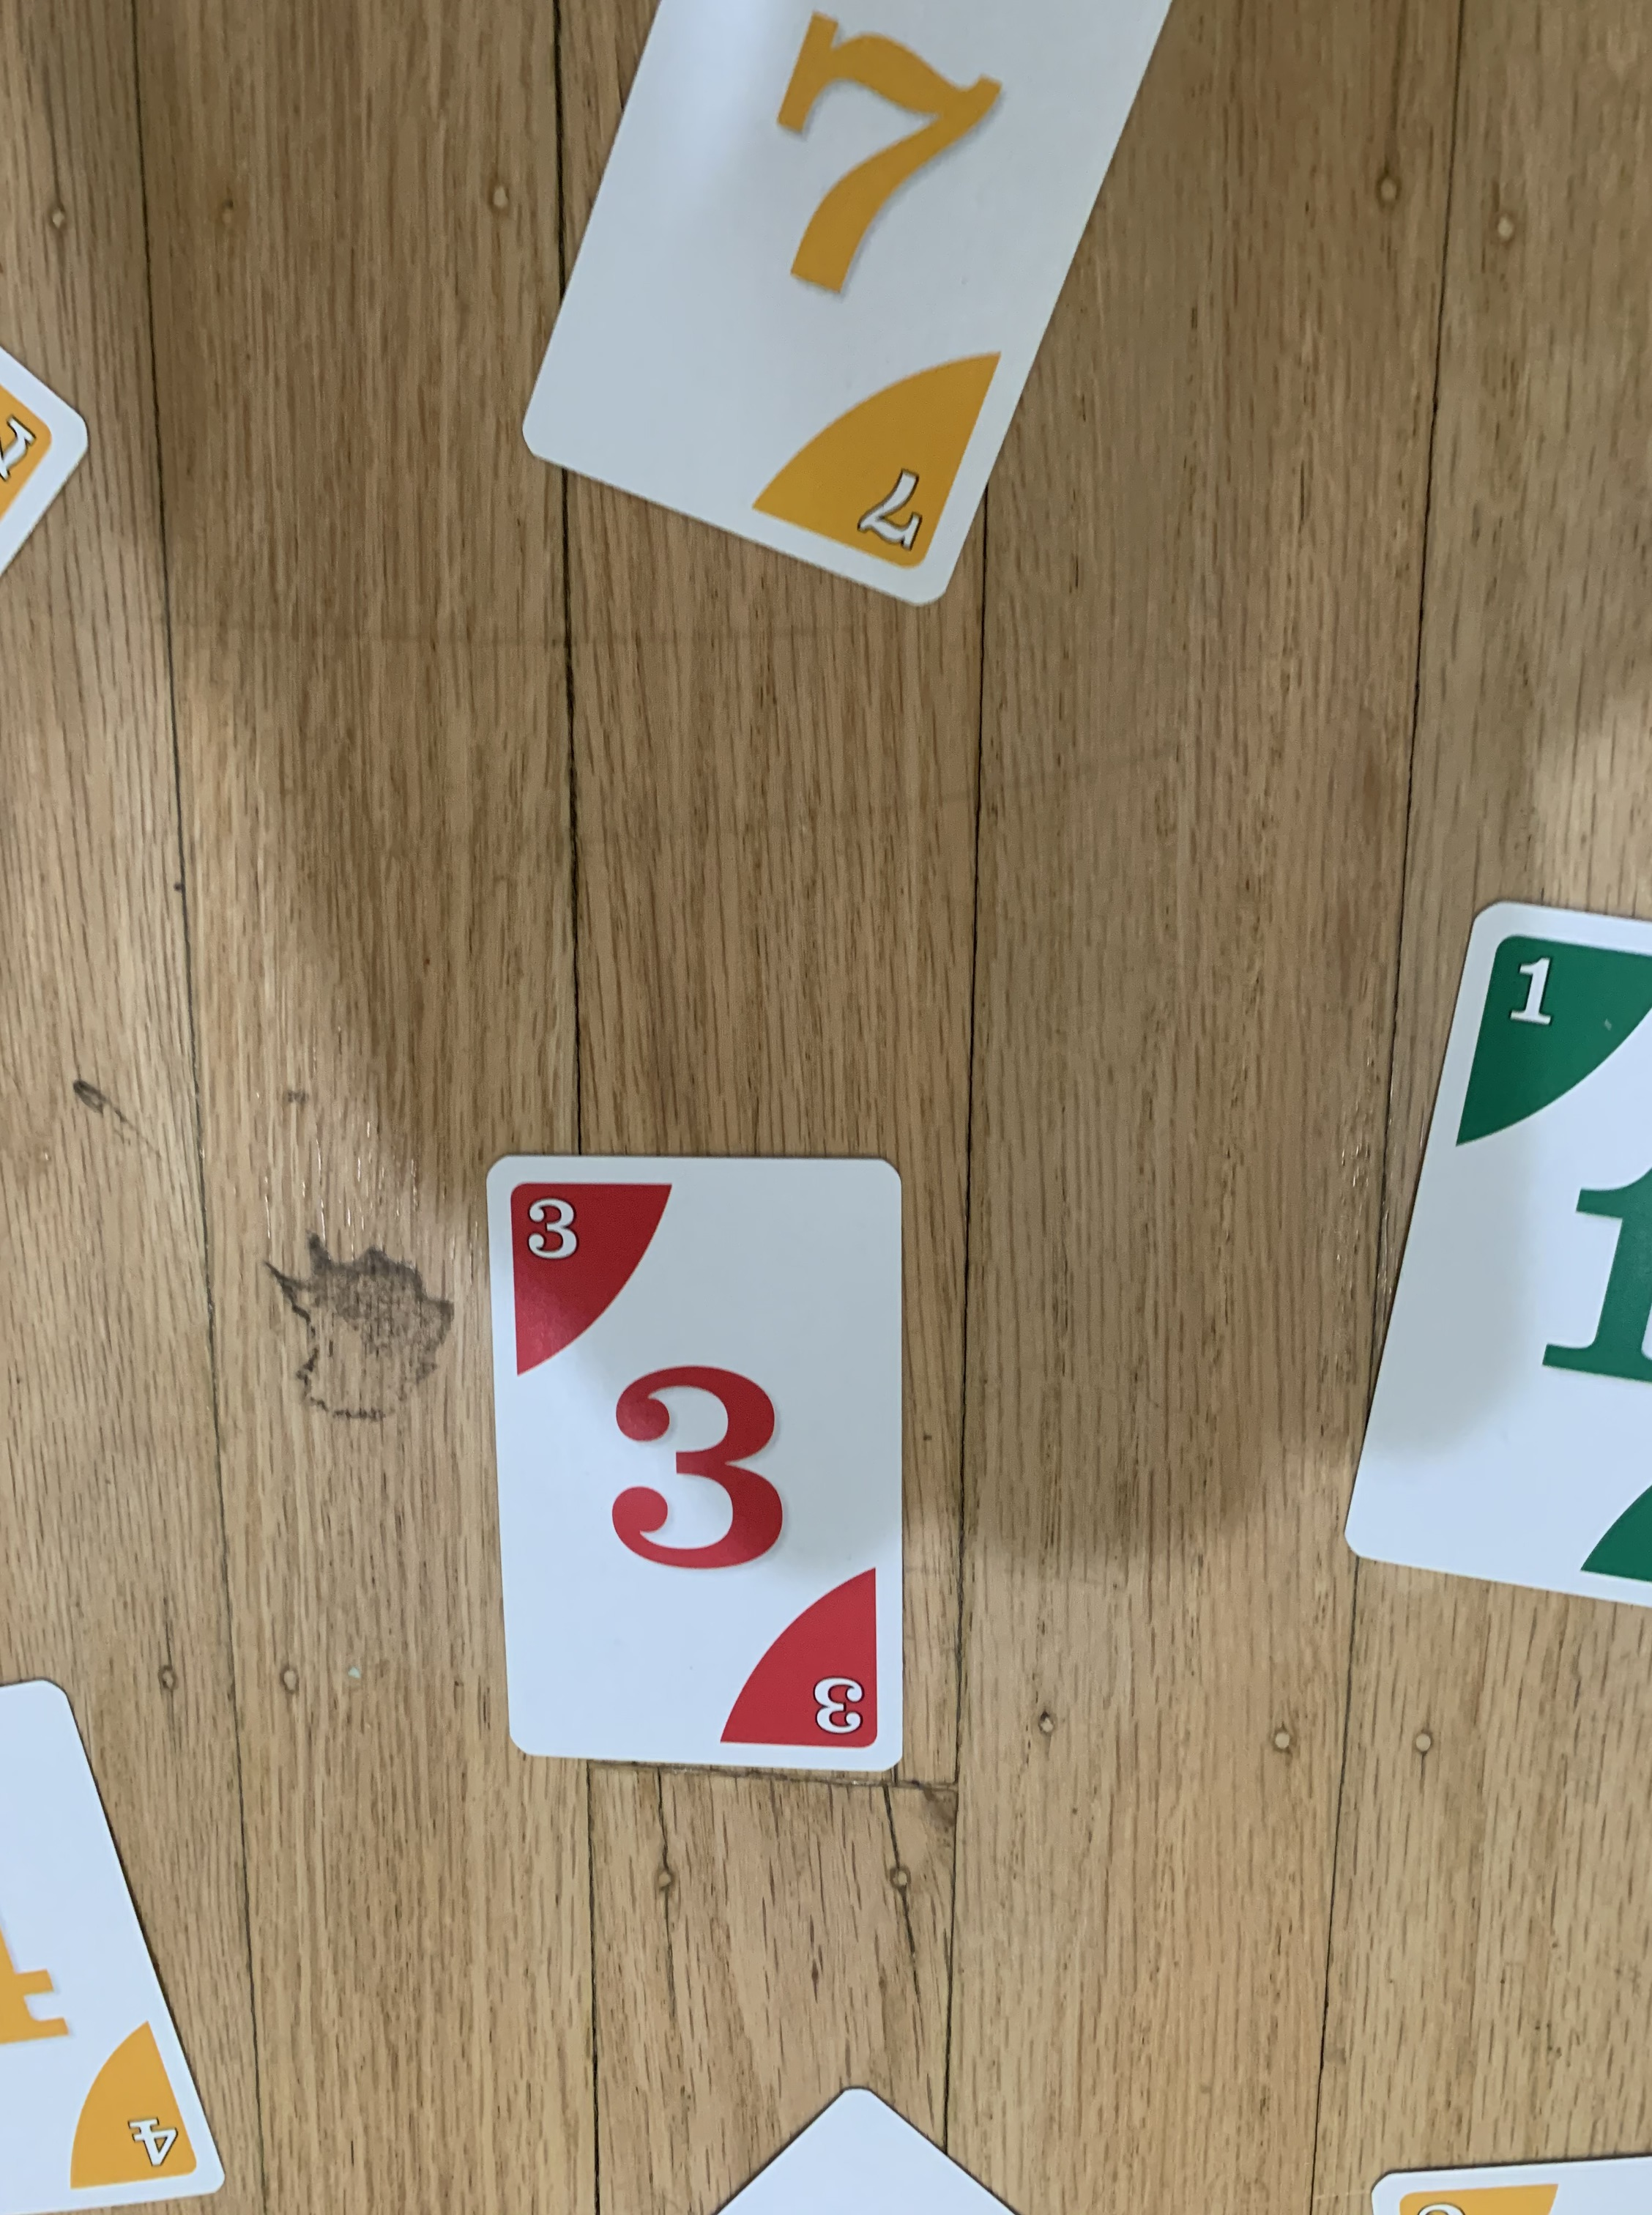one: (1326, 892, 1652, 1620)
seven: (510, 0, 1183, 623)
three: (475, 1146, 909, 1779)
